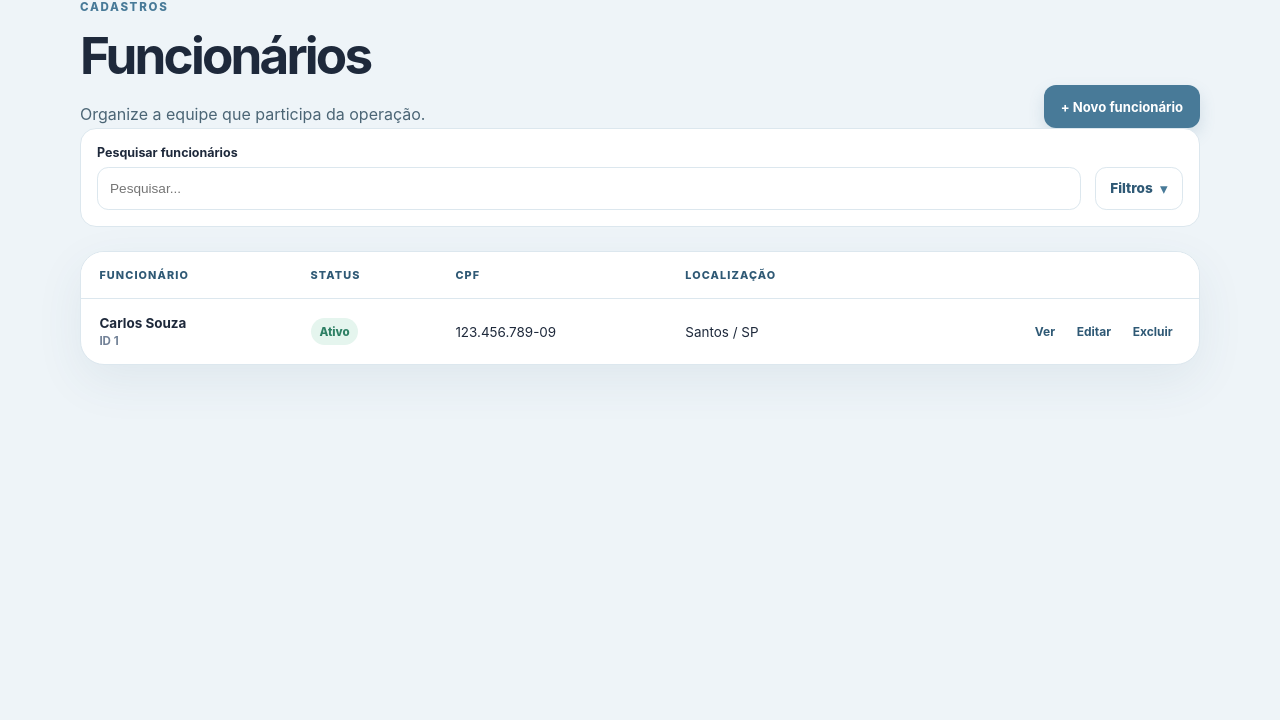
EmployeesPage filter infrastructure pilot › distinguishes zero filtered results from an empty base
Check: the text "Carlos Souza" is shown, box [99,315,186,331]
Type "Inexistente" into the search field labelled "Pesquisar funcionários" at (589, 188), box [97,167,1081,210]
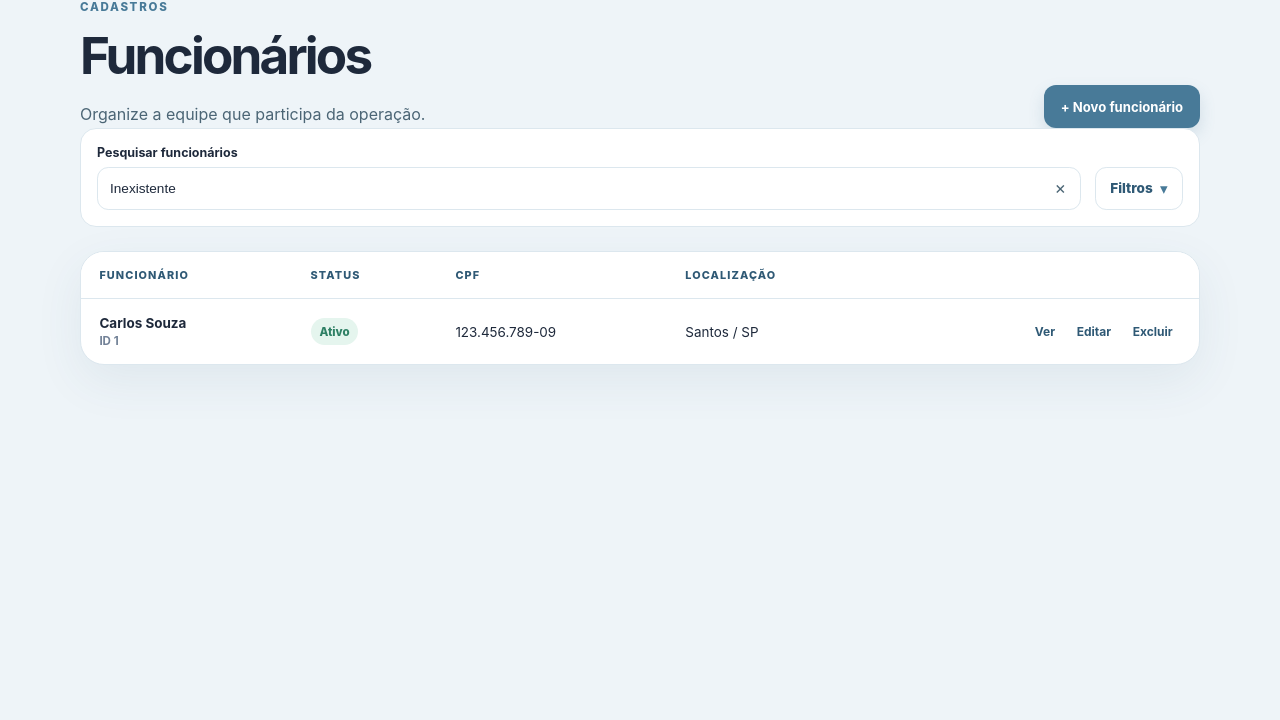
Click the button "Filtros ▾" at (1139, 188), box [1095,167,1183,210]
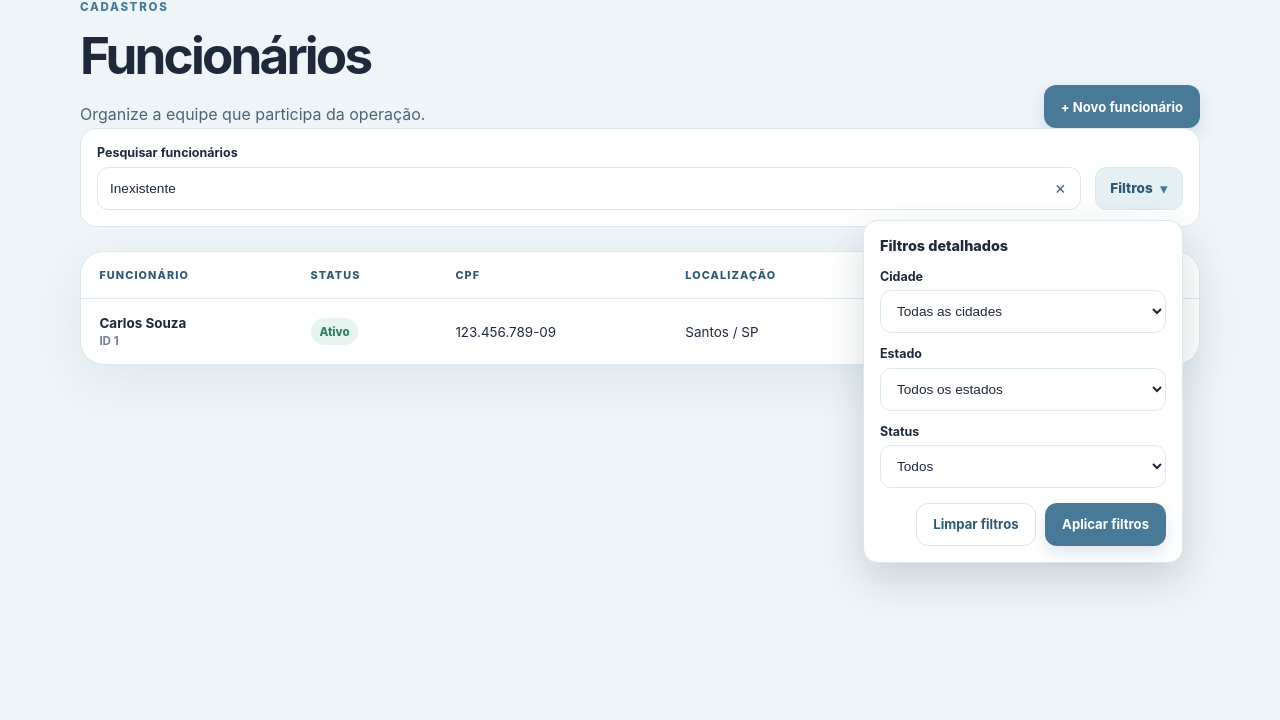
Click the button "Aplicar filtros" at (1106, 524), box [1045,502,1166,546]
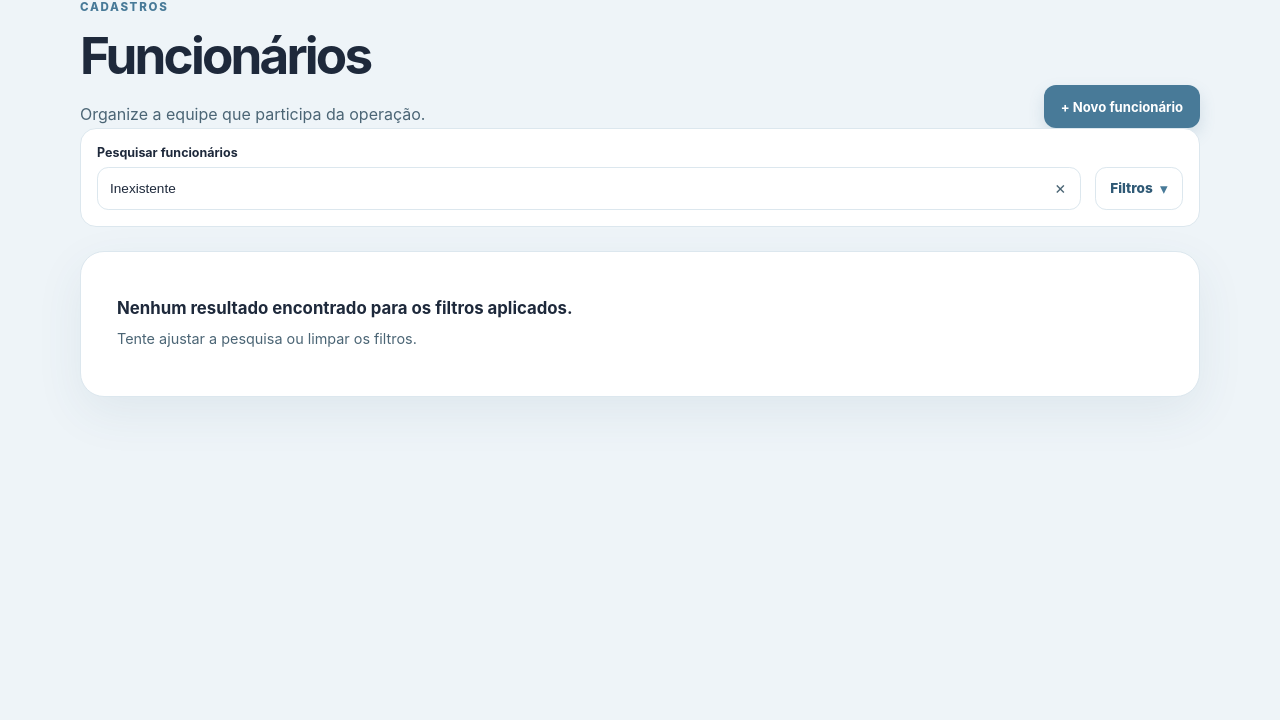
Check: the text "Nenhum resultado encontrado para os filtros aplicados." is shown, box [117,298,573,318]
